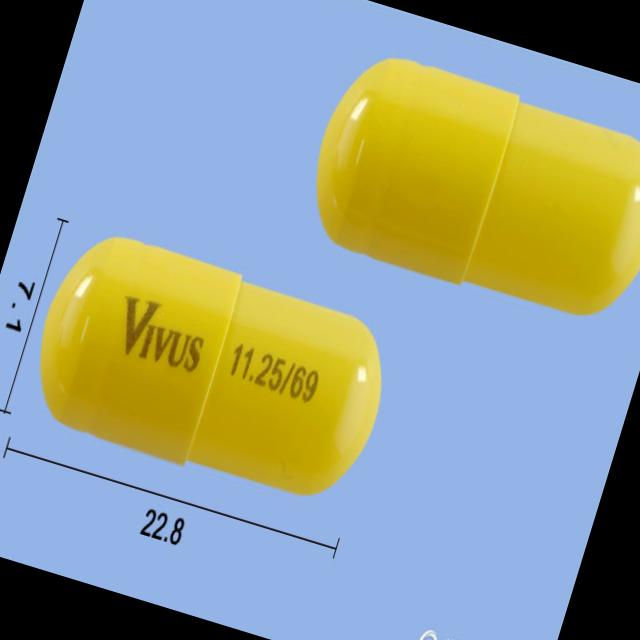Qsymia Cap: (14, 217, 409, 516)
